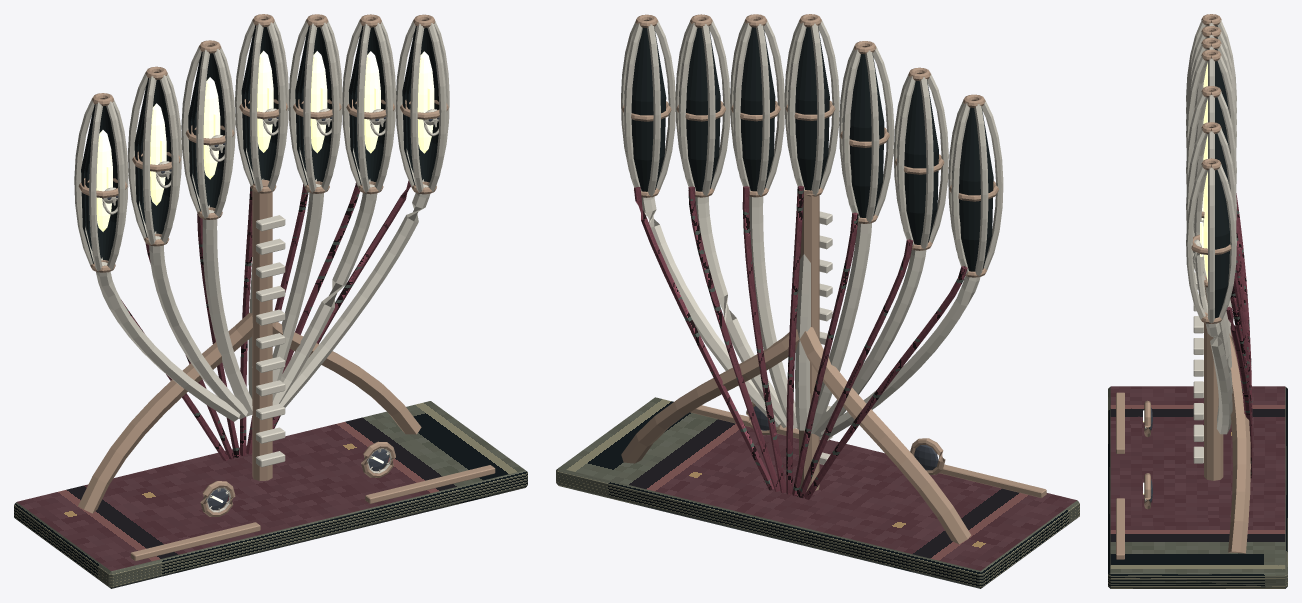
File: reliquary_seven_vessels.glb
The picture shows the model from 3 angles, left to right: view 1: azimuth 30°, elevation 25°; view 2: azimuth 150°, elevation 25°; view 3: azimuth 270°, elevation 25°; orthographic projection. The views are drawn at different scales.
Parts seen in each view (by area): view 1: reliquary_seven_vessels_petrol, reliquary_seven_vessels_warm, reliquary_seven_vessels_worn, reliquary_seven_vessels_sick, reliquary_seven_vessels_bruised, reliquary_seven_vessels_deep; view 2: reliquary_seven_vessels_petrol, reliquary_seven_vessels_warm, reliquary_seven_vessels_worn, reliquary_seven_vessels_bruised, reliquary_seven_vessels_deep; view 3: reliquary_seven_vessels_petrol, reliquary_seven_vessels_warm, reliquary_seven_vessels_worn, reliquary_seven_vessels_bruised, reliquary_seven_vessels_sick.
Boxes of the visible parts, left/top/right/bottom form: reliquary_seven_vessels_petrol: left=14, top=25, right=527, bottom=588; reliquary_seven_vessels_warm: left=74, top=19, right=449, bottom=512; reliquary_seven_vessels_worn: left=78, top=14, right=495, bottom=561; reliquary_seven_vessels_sick: left=96, top=50, right=434, bottom=502; reliquary_seven_vessels_bruised: left=121, top=180, right=410, bottom=460; reliquary_seven_vessels_deep: left=107, top=116, right=439, bottom=510; reliquary_seven_vessels_petrol: left=556, top=26, right=1079, bottom=588; reliquary_seven_vessels_warm: left=621, top=19, right=1003, bottom=464; reliquary_seven_vessels_worn: left=621, top=14, right=1046, bottom=544; reliquary_seven_vessels_bruised: left=634, top=185, right=967, bottom=499; reliquary_seven_vessels_deep: left=753, top=406, right=938, bottom=470; reliquary_seven_vessels_petrol: left=1108, top=25, right=1287, bottom=588; reliquary_seven_vessels_warm: left=1145, top=20, right=1236, bottom=501; reliquary_seven_vessels_worn: left=1116, top=14, right=1250, bottom=559; reliquary_seven_vessels_bruised: left=1226, top=193, right=1252, bottom=478; reliquary_seven_vessels_sick: left=1143, top=63, right=1207, bottom=494.
Size of the model in its own units: 5.95 by 6.53 by 2.4.
Materials: 6 (2 with a texture image).
